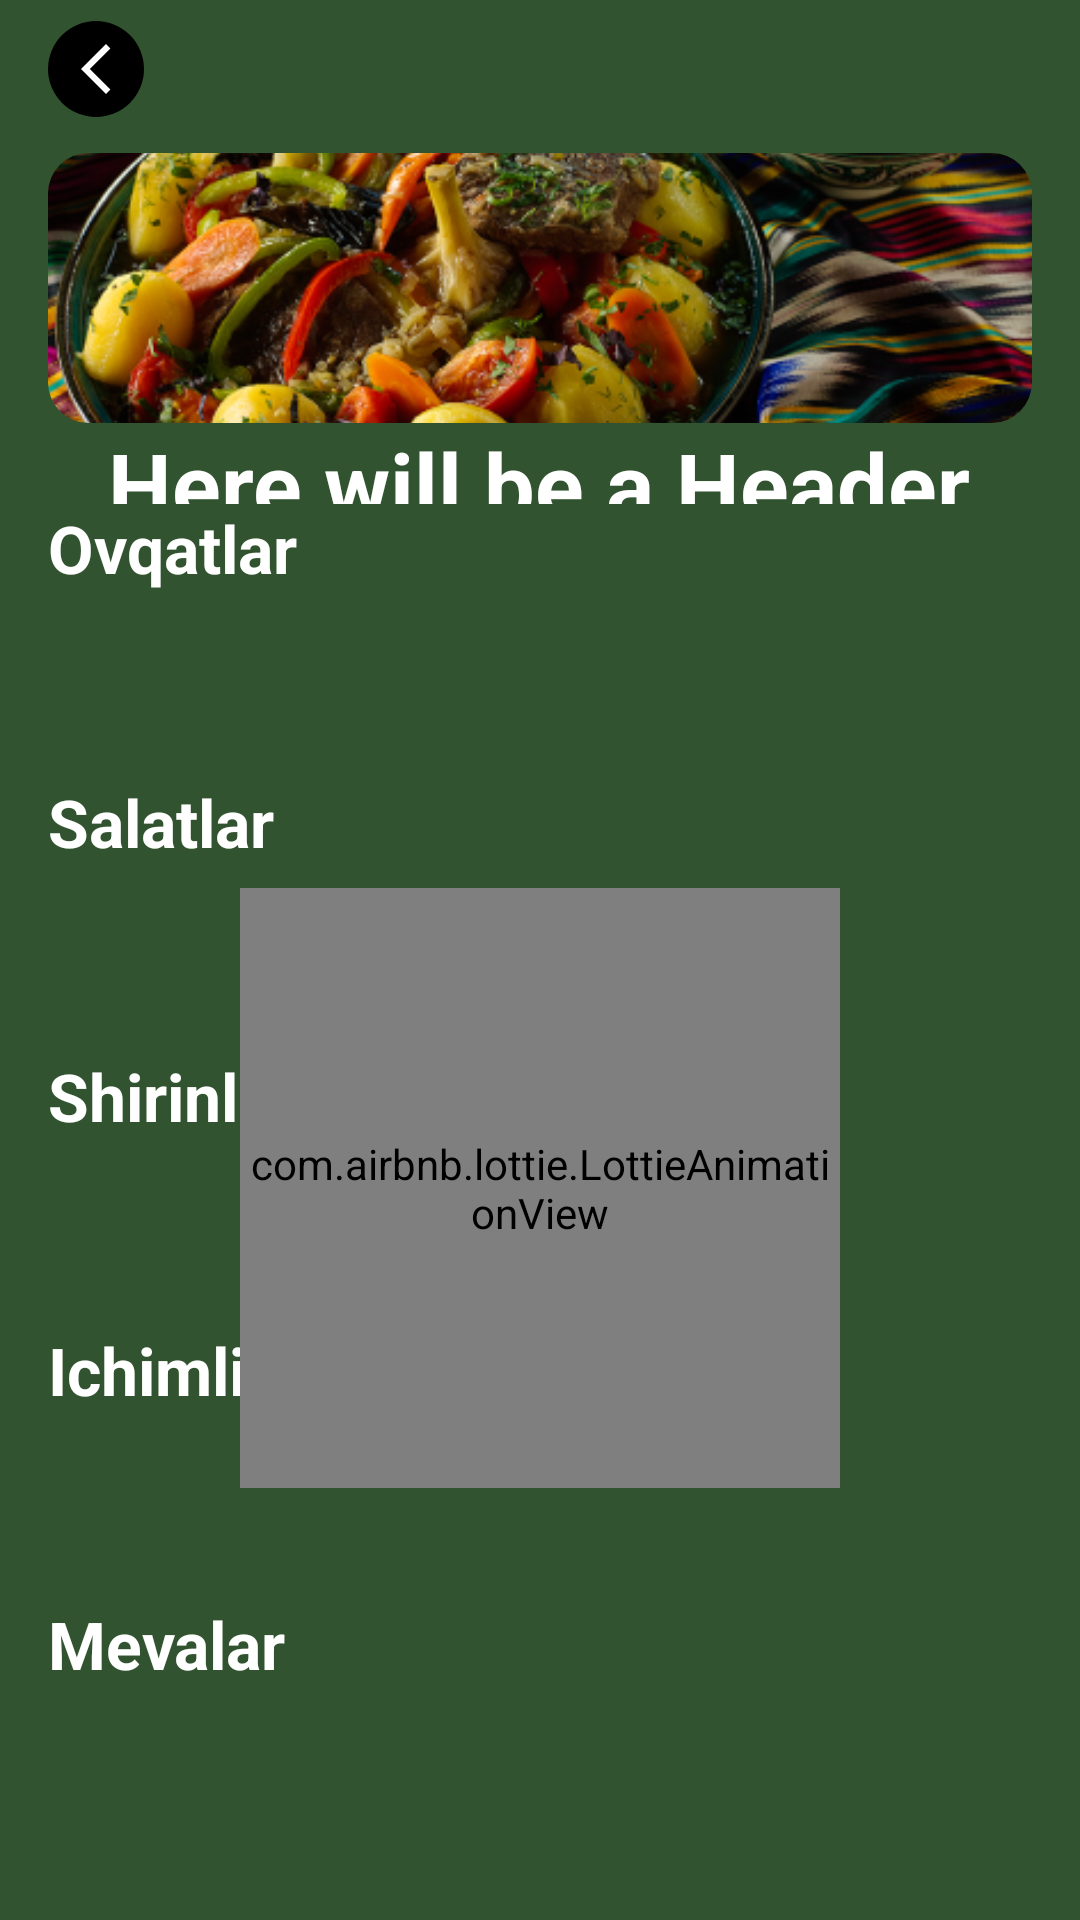

Icons on this 1080*1920 Android screen, each with the point to tap as point (x, y):
back: point (96, 69)
